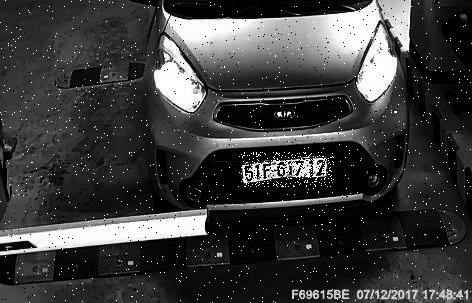License-plate: (243, 153, 336, 188)
